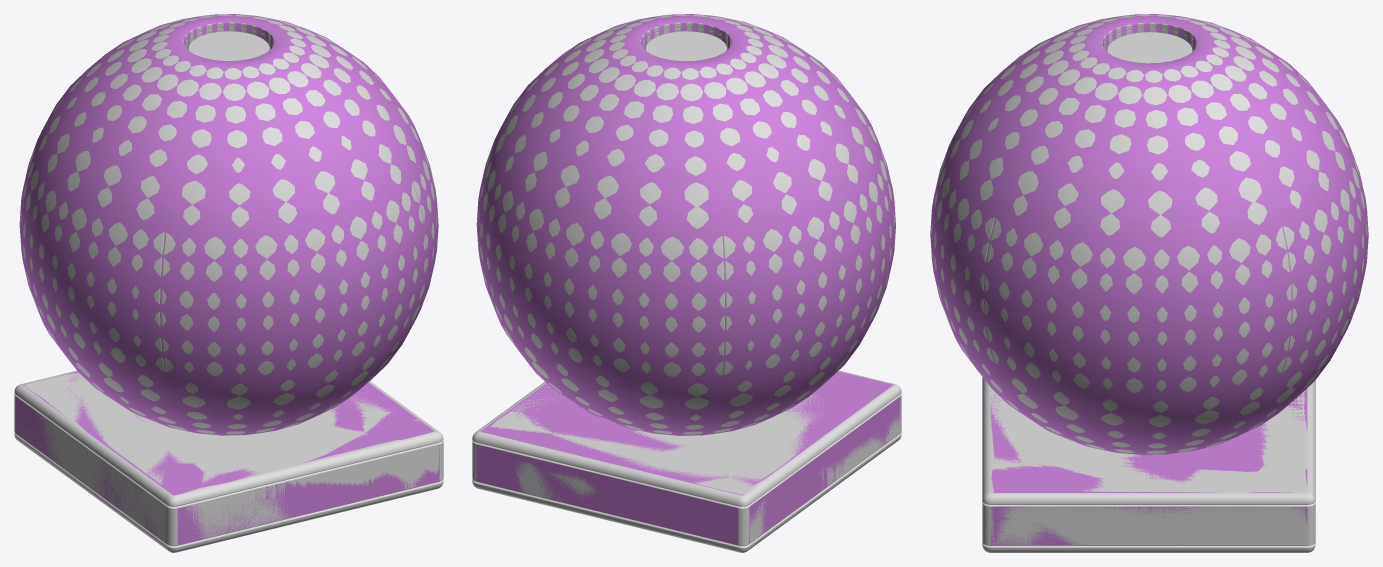
The model's file is [decor] Material dummy - sphere.fbx.
The picture shows the model from 3 angles, left to right: view 1: azimuth 30°, elevation 25°; view 2: azimuth 150°, elevation 25°; view 3: azimuth 270°, elevation 25°; orthographic projection. The views are drawn at different scales.
Visible parts, largest first — view 1: Material sphere_PHYS, Material sphere_LOD0; view 2: Material sphere_PHYS, Material sphere_LOD0; view 3: Material sphere_PHYS, Material sphere_LOD0.
Part boxes in pixels (box(x1,y1,x2,y2)): Material sphere_PHYS: box(15, 14, 439, 544); Material sphere_LOD0: box(14, 14, 443, 552); Material sphere_PHYS: box(476, 14, 900, 544); Material sphere_LOD0: box(472, 14, 901, 552); Material sphere_PHYS: box(930, 14, 1368, 545); Material sphere_LOD0: box(931, 14, 1367, 552).
Size of what is drawn, in the model's own units: 118 by 131 by 118.
